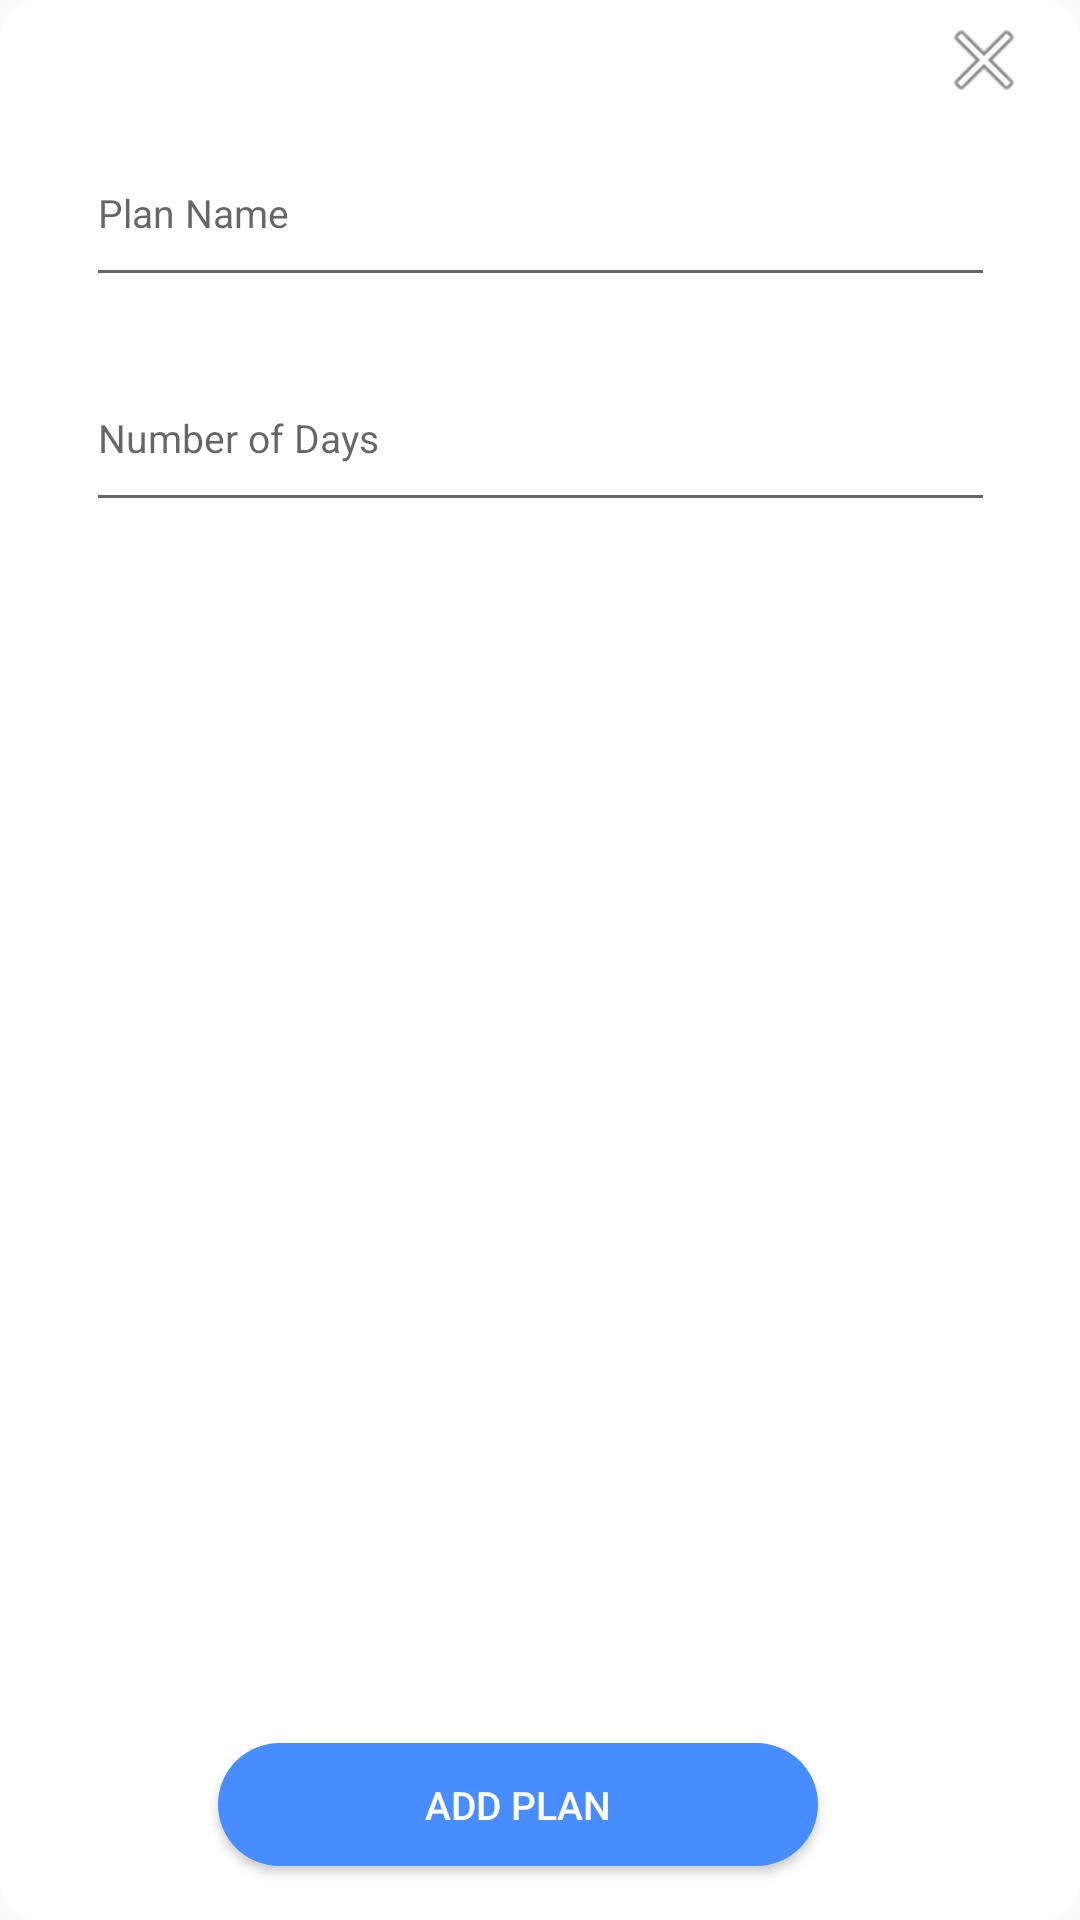

Named icons in this screenshot (1080x1920) and their centers, (x,y):
close clear cancel: (984,60)
